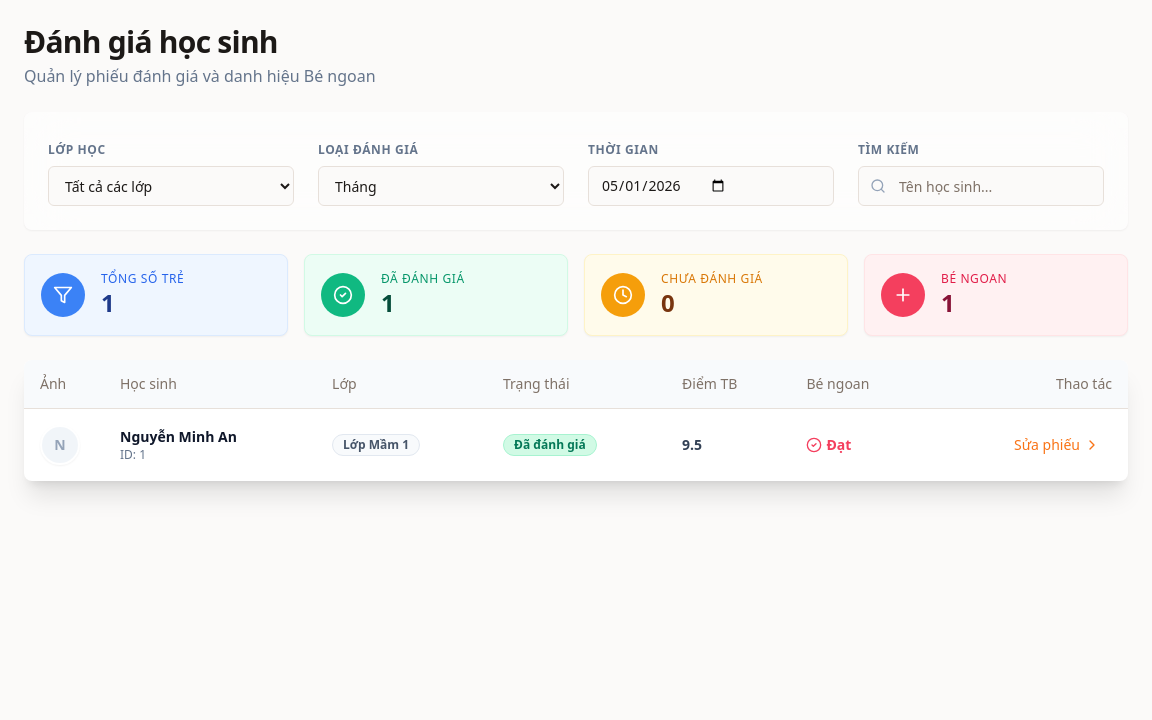
Test: EvaluationListPage › filters students by name
This screenshot has width=1152, height=720.
Expected: the text "Nguyễn Minh An" is shown, [120,426,237,446]
Step 1. Type "Minh An" into the field with placeholder "Tên học sinh..." → (981, 186), box [858,166,1104,206]
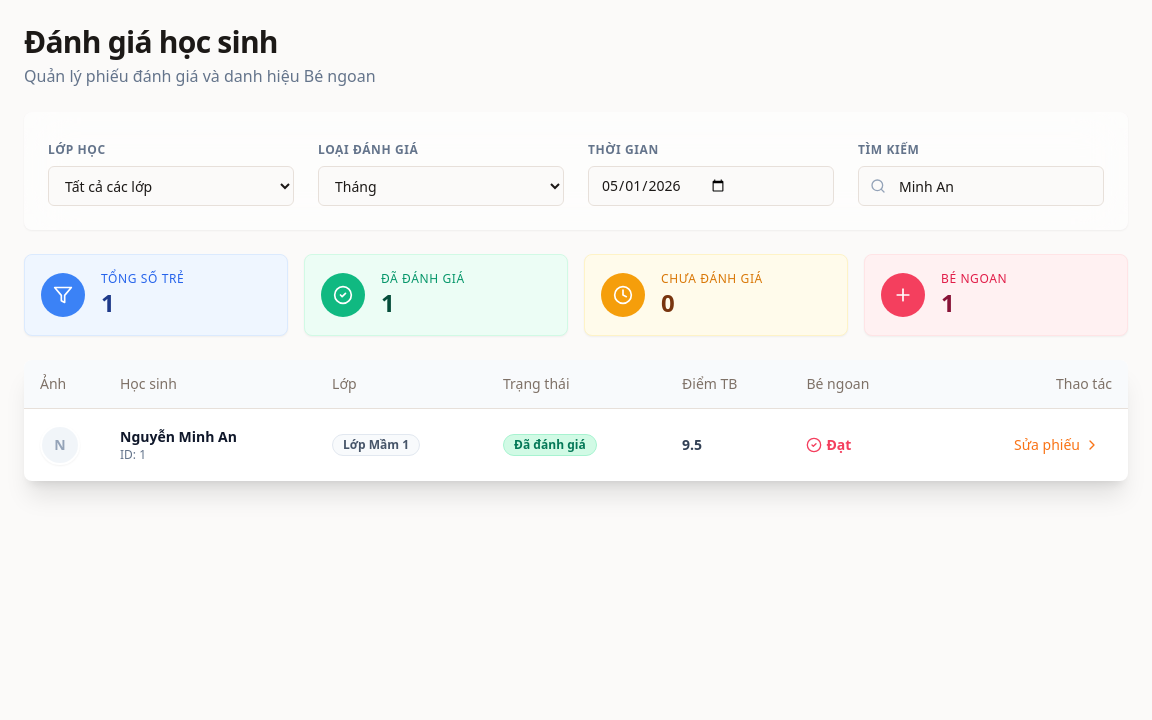
Expected: the text "Nguyễn Minh An" is shown, [120,426,237,446]
Step 2. Replace the text in the field with placeholder "Tên học sinh..." with "Khác" → (981, 186), box [858,166,1104,206]
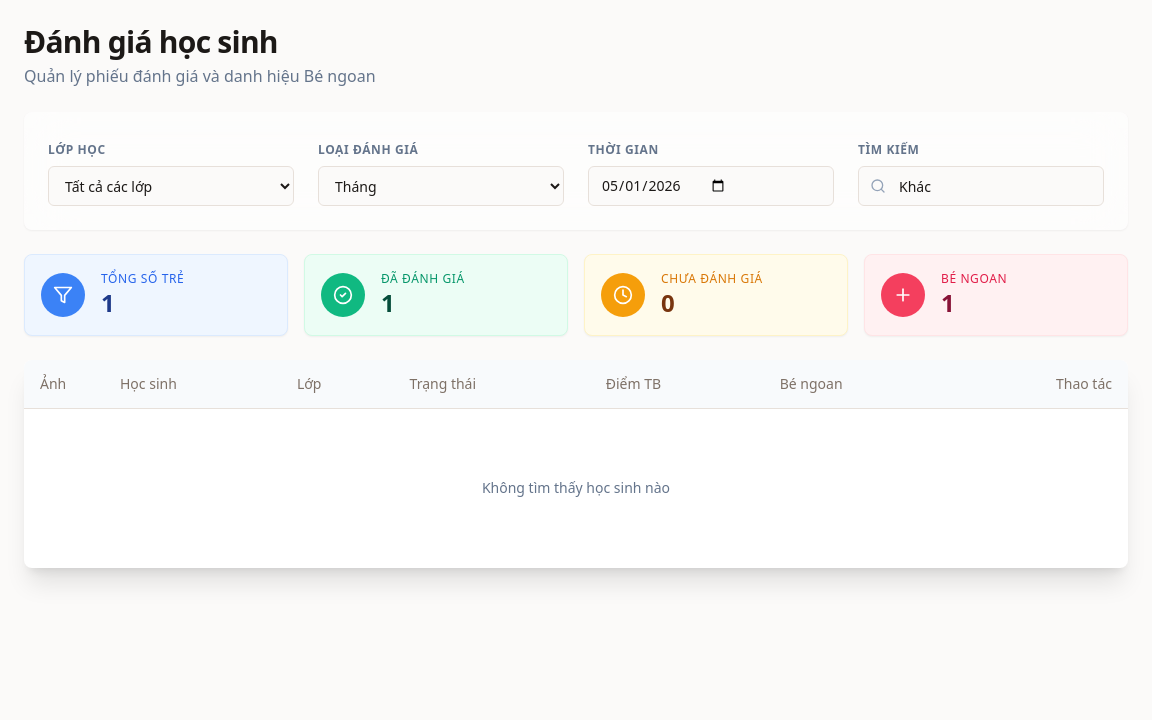
Now the text "Nguyễn Minh An" is gone
